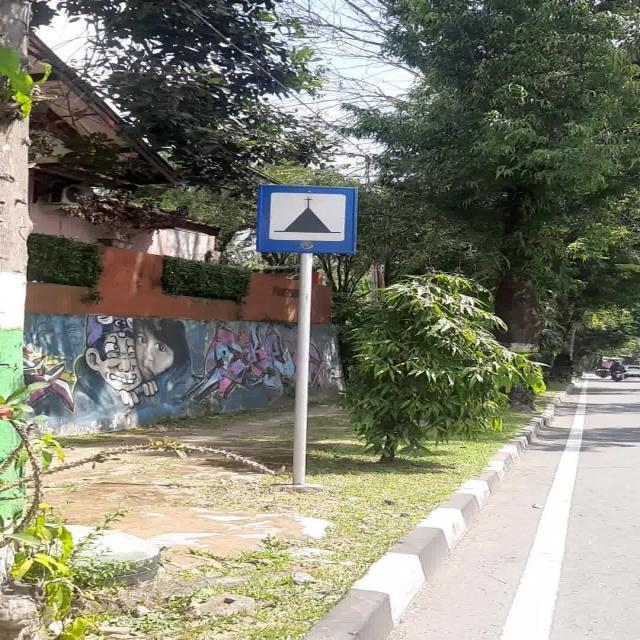Gereja: (255, 184, 358, 254)
